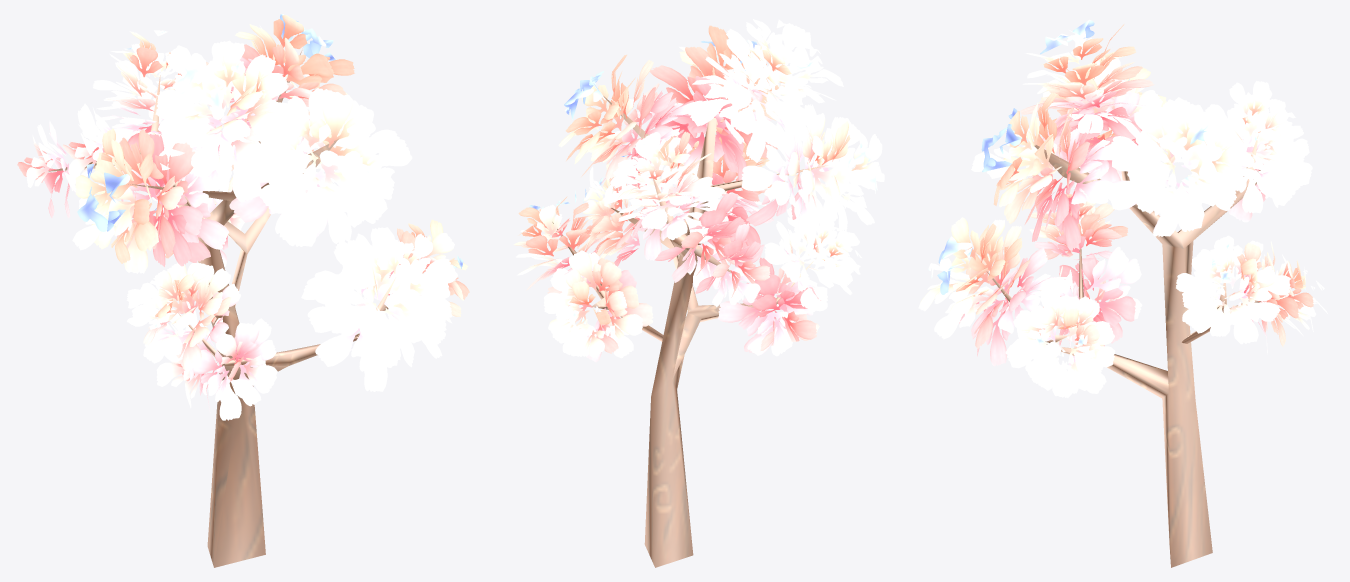
File: Tree_02.fbx
The picture shows the model from 3 angles, left to right: view 1: azimuth 30°, elevation 25°; view 2: azimuth 150°, elevation 25°; view 3: azimuth 270°, elevation 25°; orthographic projection. The views are drawn at different scales.
Visible parts, largest first — view 1: TRW1; view 2: TRW1; view 3: TRW1.
Boxes of the visible parts, x1,y1,x2,y2 form: TRW1: (17,14,469,567); TRW1: (513,19,884,567); TRW1: (918,19,1327,567).
Bounding box in the file's own units: 519 × 764 × 577.
